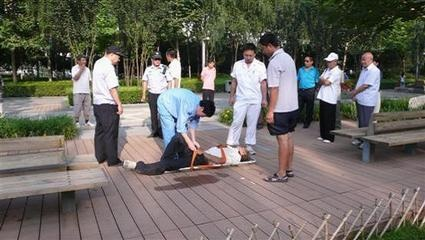falling: (120, 132, 255, 177)
